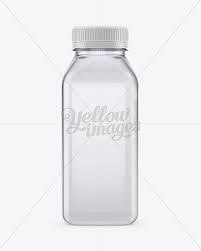available: (48, 17, 142, 229)
